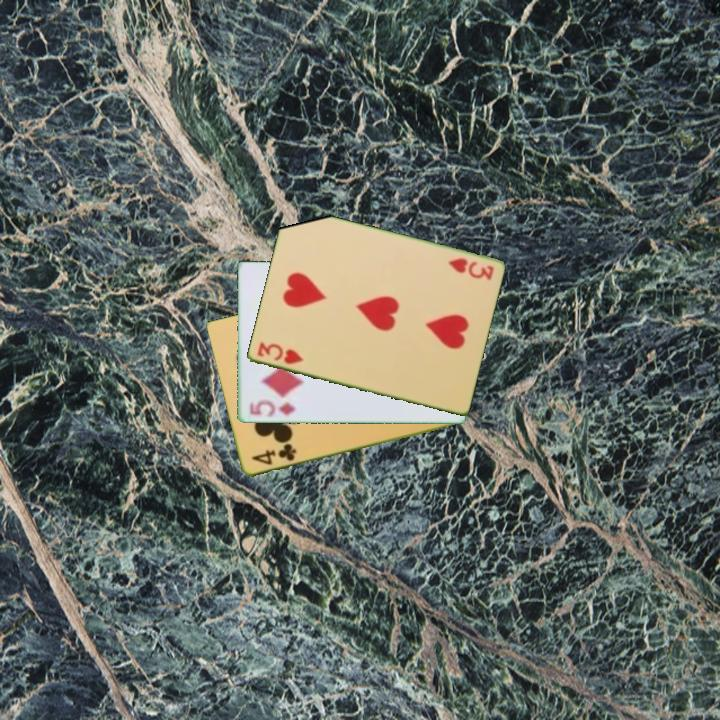3h: (253, 339, 306, 367), (444, 255, 496, 283)
4c: (248, 441, 299, 468)
5d: (246, 397, 299, 420)
